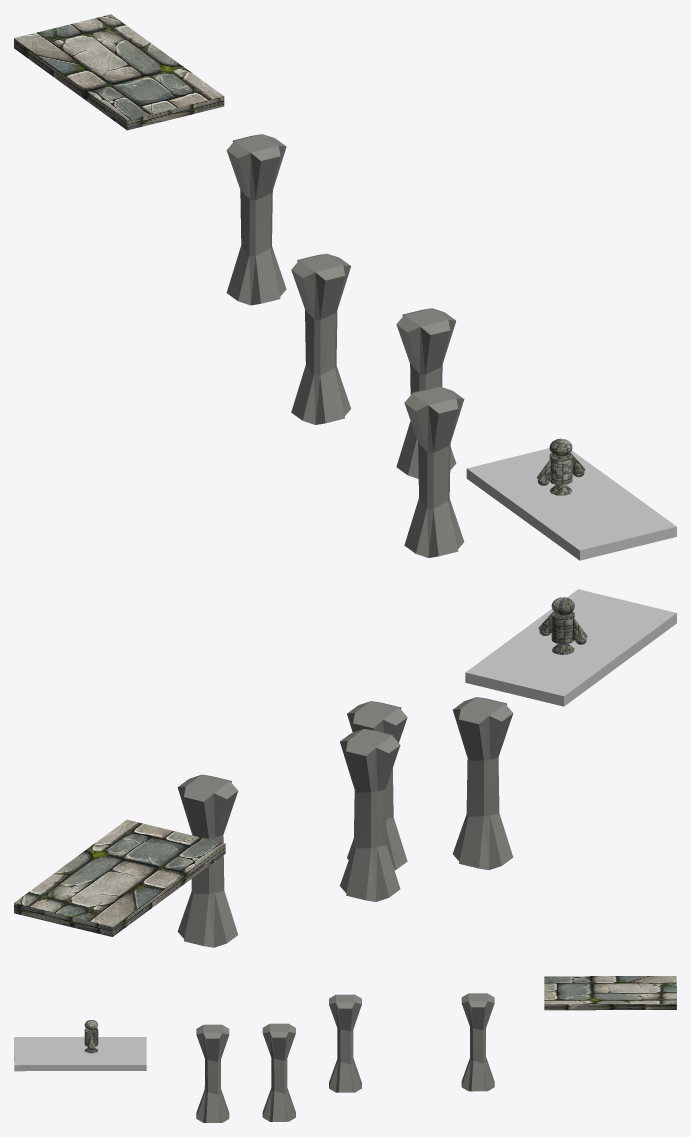
File: platform.gltf
3 views of the same model, one above another, from view 1: azimuth 30°, elevation 25°; view 2: azimuth 150°, elevation 25°; view 3: azimuth 270°, elevation 25° (orthographic). The views are drawn at different scales.
Parts seen in each view (by area): view 1: Floor.002, Floor.001, Pillar.003, Pillar.004, Pillar.001, Pillar.002, Player.007; view 2: Floor.002, Floor.001, Pillar.004, Pillar.001, Pillar.003, Pillar.002, Player.007; view 3: Floor.002, Floor.001, Pillar.002, Pillar.004, Pillar.003, Pillar.001, Player.007.
Boxes of the visible parts, x1,y1,x2,y2 form: Floor.002: [14, 14, 224, 130]; Floor.001: [466, 448, 676, 560]; Pillar.003: [226, 134, 286, 305]; Pillar.004: [291, 253, 350, 424]; Pillar.001: [404, 386, 464, 557]; Pillar.002: [396, 308, 456, 478]; Player.007: [537, 438, 585, 495]; Floor.002: [14, 819, 225, 936]; Floor.001: [465, 589, 676, 706]; Pillar.004: [340, 729, 400, 901]; Pillar.001: [452, 697, 513, 869]; Pillar.003: [177, 774, 238, 947]; Pillar.002: [347, 701, 407, 870]; Player.007: [538, 597, 587, 654]; Floor.002: [544, 976, 676, 1010]; Floor.001: [14, 1037, 146, 1071]; Pillar.002: [262, 1023, 295, 1121]; Pillar.004: [329, 994, 361, 1092]; Pillar.003: [461, 993, 494, 1091]; Pillar.001: [196, 1024, 229, 1122]; Player.007: [84, 1020, 98, 1053].
Size of the model in its own units: 1.04 by 2.25 by 10.
